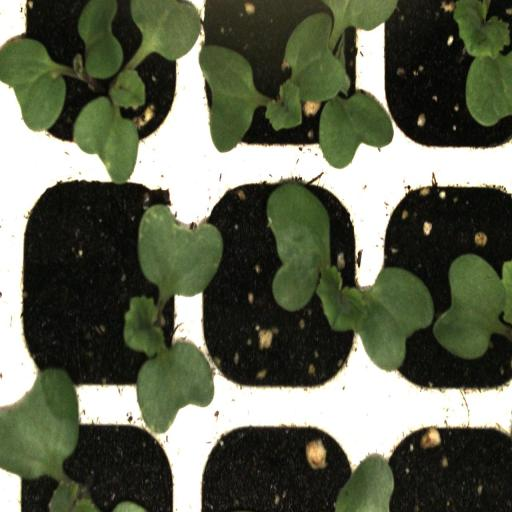seedling: (187, 162, 373, 410), (0, 163, 185, 405), (376, 0, 512, 162)
twoseedling: (187, 0, 374, 162), (8, 0, 188, 164)
